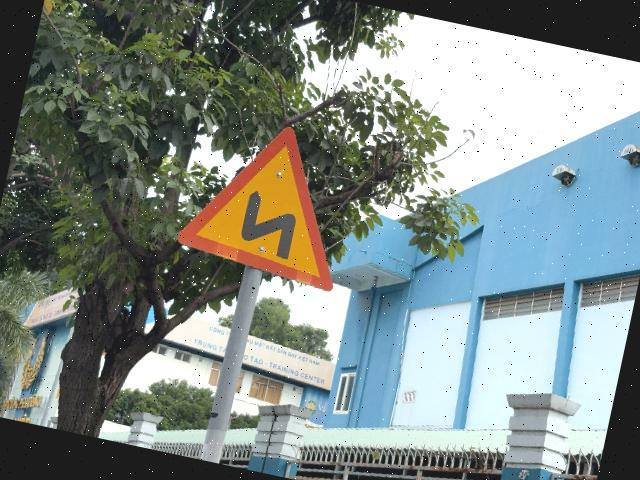nhieu-cho-ngoat-nguy-hiem-lien-tiep: (172, 108, 363, 292)
